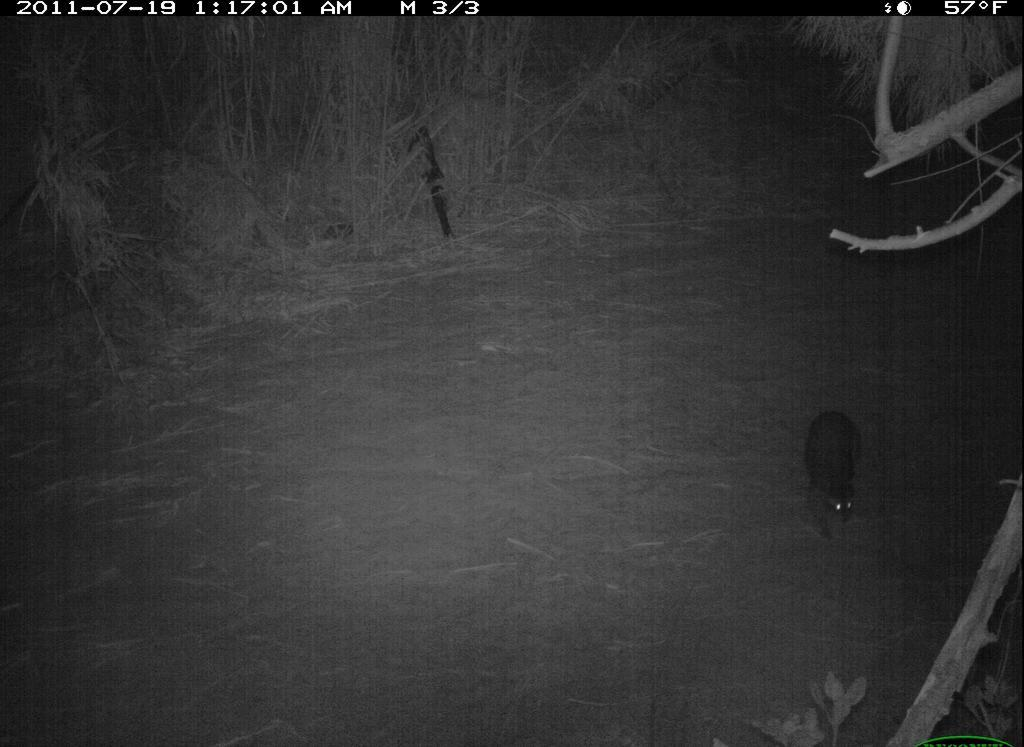raccoon: (801, 404, 868, 553)
